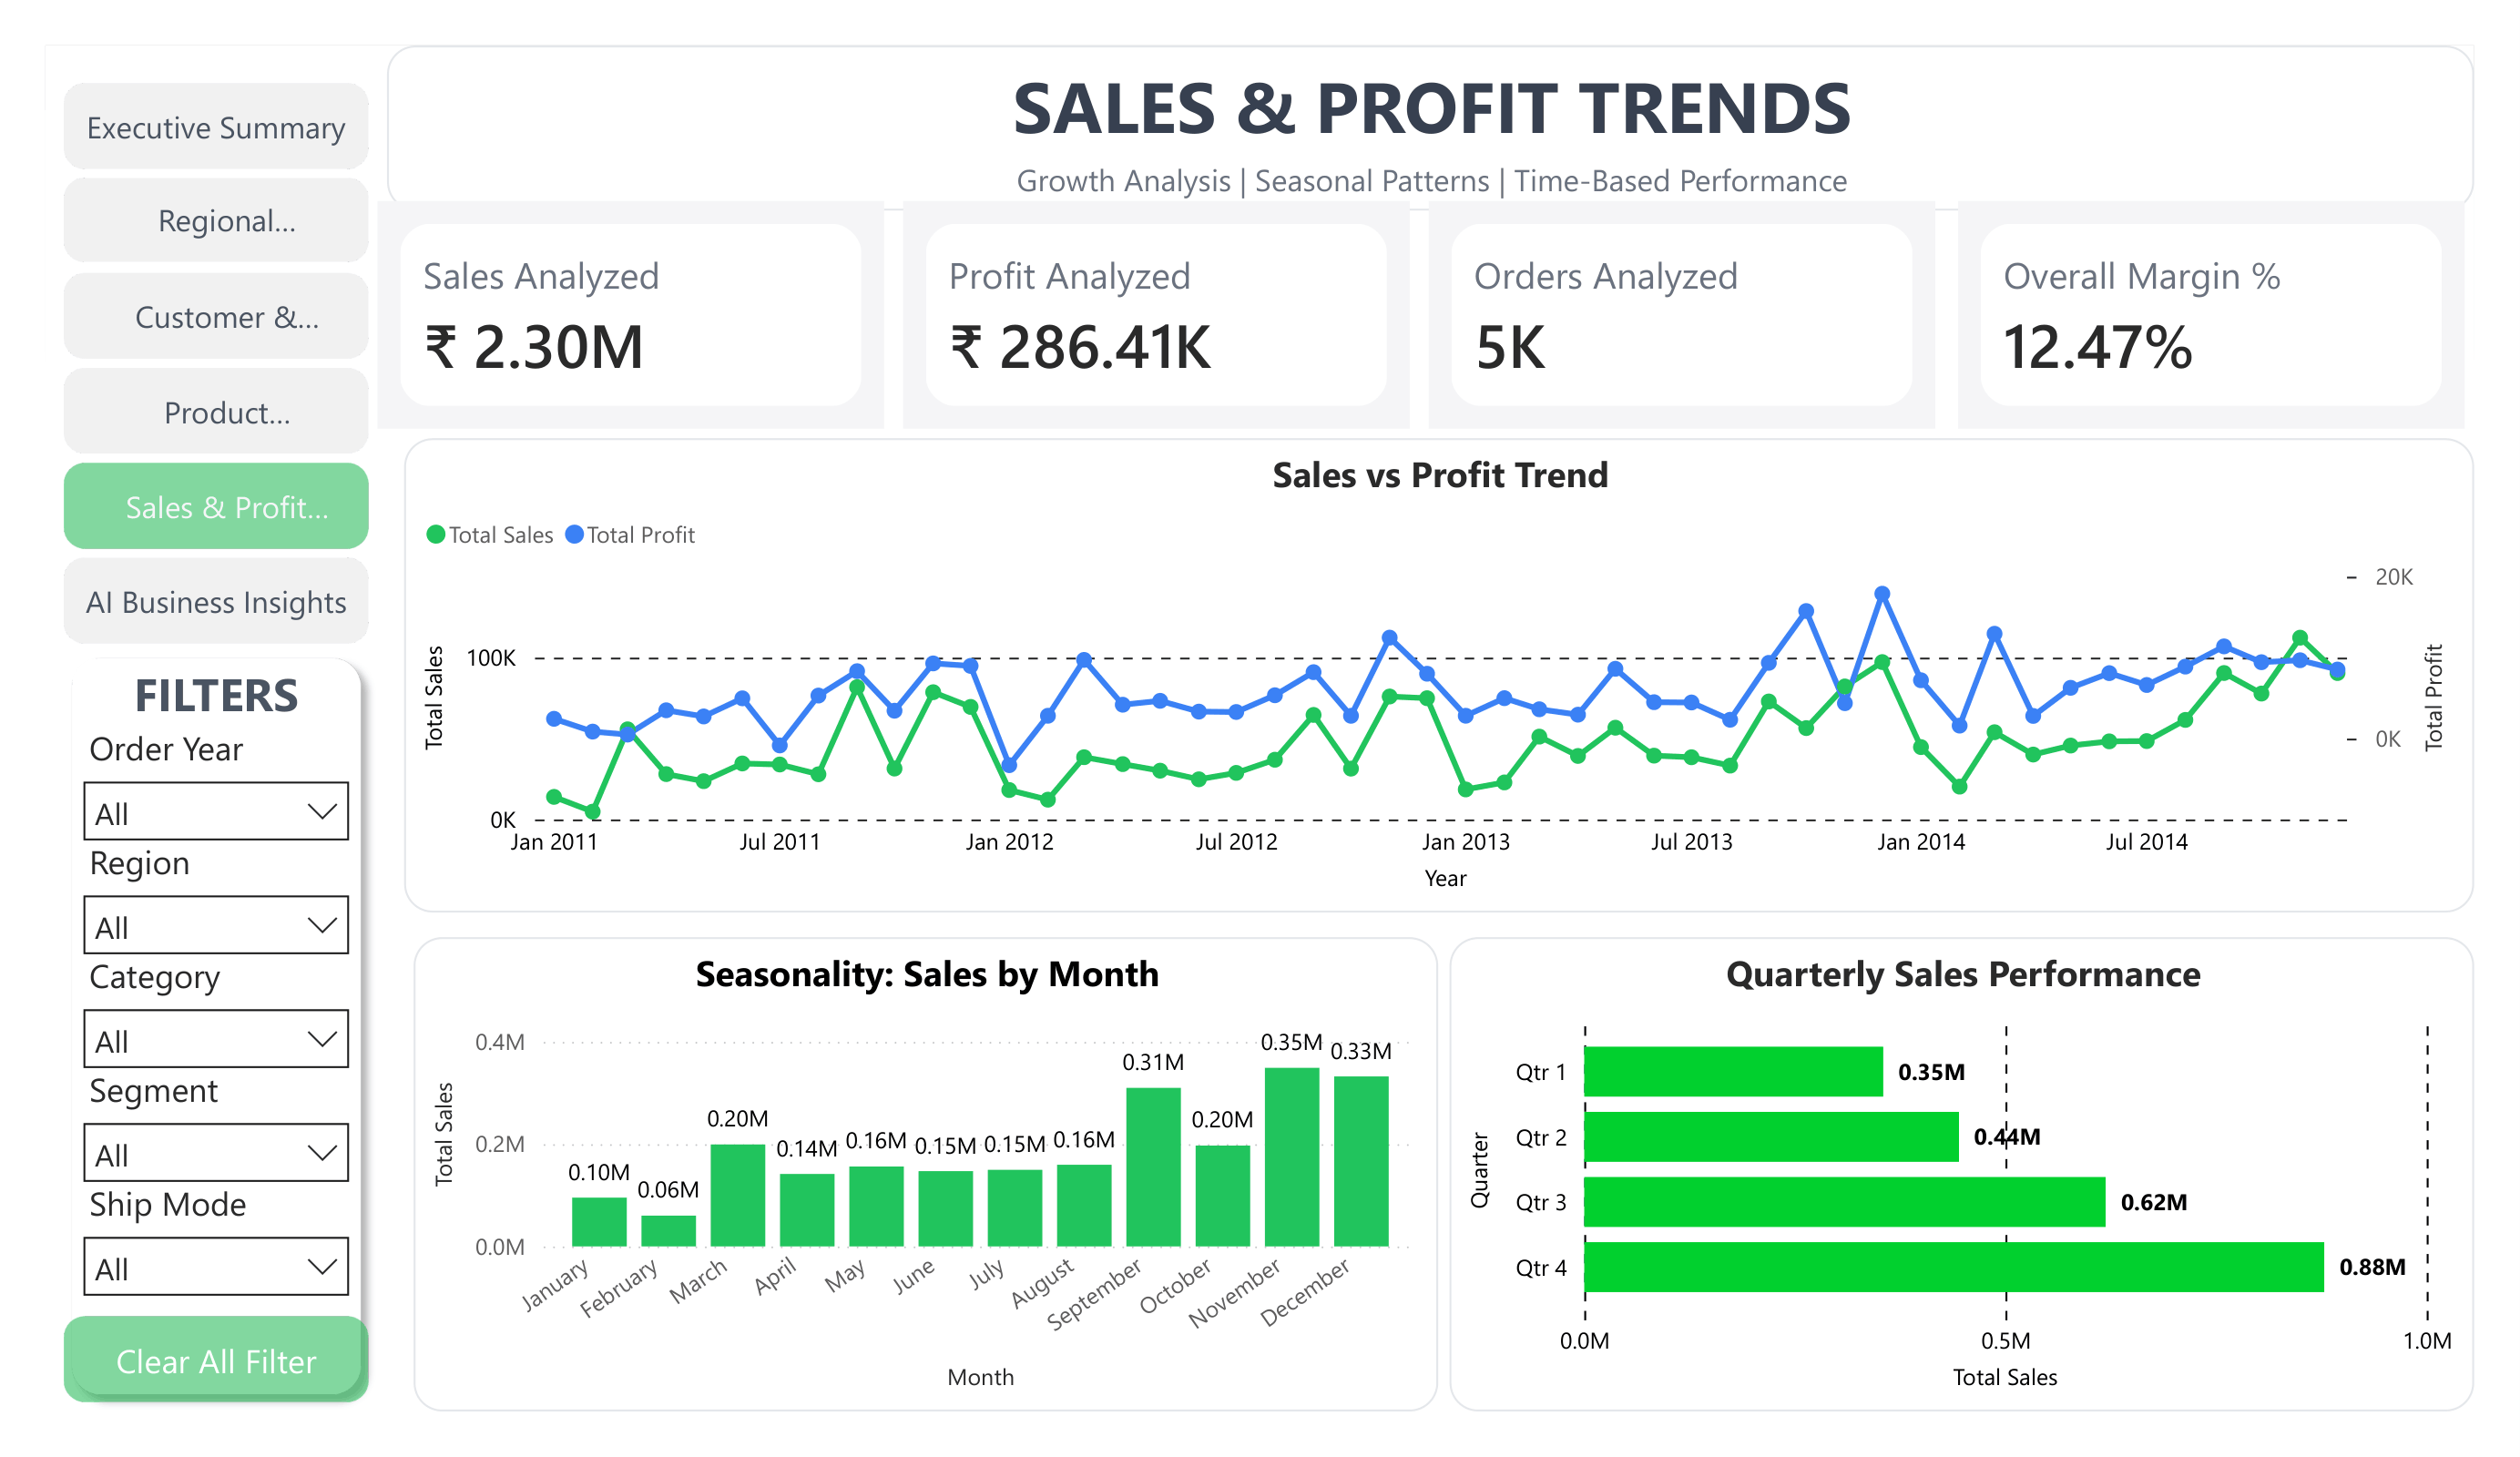

The dashboard page shown, as its layout file describes it:
{"tool":"powerbi","page":{"name":"Sales & Profit Trends","canvas":[1280,720],"ordinal":4},"visuals":[{"type":"textbox","title":"SALES & PROFIT TRENDS","box":[180,0,1100,87.1],"z":0},{"type":"shape","box":[0,0,180,720],"z":1000},{"type":"actionButton","box":[10,70,160,44.3],"z":2000},{"type":"actionButton","box":[10,120,160,45],"z":3000},{"type":"actionButton","box":[10,170,160,45],"z":4000},{"type":"actionButton","box":[10,220,160,45],"z":5000},{"type":"actionButton","box":[10,270,160,45],"z":6000},{"type":"actionButton","box":[10,20,160,45],"z":7000},{"type":"shape","box":[5,314.3,170,405.7],"z":8000},{"type":"actionButton","box":[10,670,160,45],"z":9000},{"type":"slicer","fields":{"Values":["cleaned_superstore.Region"]},"box":[10,412.9,160,70],"z":10000},{"type":"slicer","fields":{"Values":["cleaned_superstore.Category"]},"box":[10,472.9,160,70],"z":11000},{"type":"slicer","fields":{"Values":["cleaned_superstore.Ship Mode"]},"box":[10,592.9,160,70],"z":12000},{"type":"slicer","fields":{"Values":["cleaned_superstore.Segment"]},"box":[10,532.9,160,70],"z":13000},{"type":"slicer","fields":{"Values":["cleaned_superstore.Order Year"]},"box":[10,352.9,160,70],"z":14000},{"type":"textbox","box":[10,320,160,46],"z":15000},{"type":"lineChart","title":"Sales vs Profit Trend","fields":{"Y":["Measures_table.Total Sales"],"Category":["cleaned_superstore.Order Date.Variation.Date Hierarchy.Year","cleaned_superstore.Order Date.Variation.Date Hierarchy.Month"],"Y2":["Measures_table.Total Profit"]},"box":[188.6,207.1,1091.4,250],"z":16000},{"type":"clusteredColumnChart","title":"Seasonality: Sales by Month","fields":{"Category":["cleaned_superstore.Order Date.Variation.Date Hierarchy.Month"],"Y":["Measures_table.Total Sales"]},"box":[194.3,470,540,250],"z":17000},{"type":"clusteredBarChart","title":"Quarterly Sales Performance","fields":{"Y":["Measures_table.Total Sales"],"Category":["cleaned_superstore.Order Date.Variation.Date Hierarchy.Quarter"]},"box":[740,470,540,250],"z":18000},{"type":"cardVisual","fields":{"Data":["Measures_table.Total Sales"]},"box":[170,77.1,277,130],"z":19000},{"type":"cardVisual","fields":{"Data":["Measures_table.Total Profit"]},"box":[447.1,77.1,277.1,130],"z":20000},{"type":"cardVisual","fields":{"Data":["Measures_table.Total Orders"]},"box":[724.3,77.1,277.1,130],"z":21000},{"type":"cardVisual","fields":{"Data":["Measures_table.Profit Margin %"]},"box":[1002.9,77.1,277.1,130],"z":22000}]}

Visuals, with their boxes on the page's 1280x720 design canvas (x1, y1, x2, y2). These are canvas units, not pixel positions in the 2520x1457 screenshot, which may show the page scaled, cropped or inside an application window:
"SALES & PROFIT TRENDS" textbox: 180, 0, 1280, 87
shape: 0, 0, 180, 720
actionButton: 10, 70, 170, 114
actionButton: 10, 120, 170, 165
actionButton: 10, 170, 170, 215
actionButton: 10, 220, 170, 265
actionButton: 10, 270, 170, 315
actionButton: 10, 20, 170, 65
shape: 5, 314, 175, 720
actionButton: 10, 670, 170, 715
slicer - cleaned_superstore.Region: 10, 413, 170, 483
slicer - cleaned_superstore.Category: 10, 473, 170, 543
slicer - cleaned_superstore.Ship Mode: 10, 593, 170, 663
slicer - cleaned_superstore.Segment: 10, 533, 170, 603
slicer - cleaned_superstore.Order Year: 10, 353, 170, 423
textbox: 10, 320, 170, 366
"Sales vs Profit Trend" lineChart: 189, 207, 1280, 457
"Seasonality: Sales by Month" clusteredColumnChart: 194, 470, 734, 720
"Quarterly Sales Performance" clusteredBarChart: 740, 470, 1280, 720
cardVisual - Measures_table.Total Sales: 170, 77, 447, 207
cardVisual - Measures_table.Total Profit: 447, 77, 724, 207
cardVisual - Measures_table.Total Orders: 724, 77, 1001, 207
cardVisual - Measures_table.Profit Margin %: 1003, 77, 1280, 207
